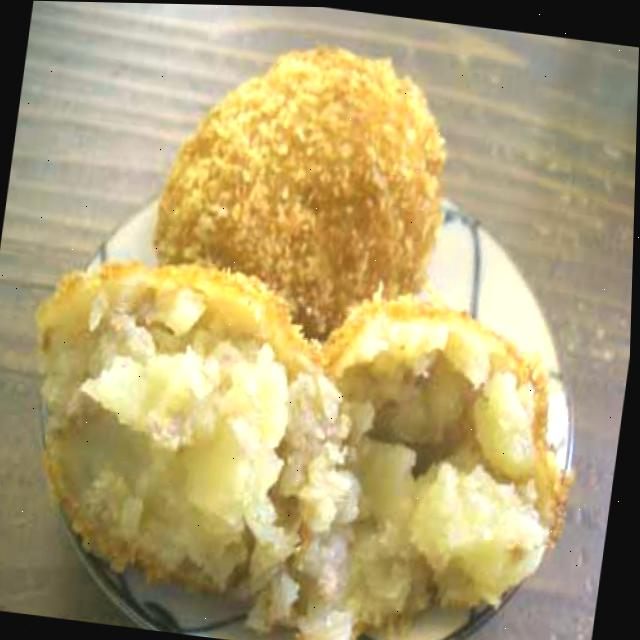炸货点心: (1, 7, 625, 640)
